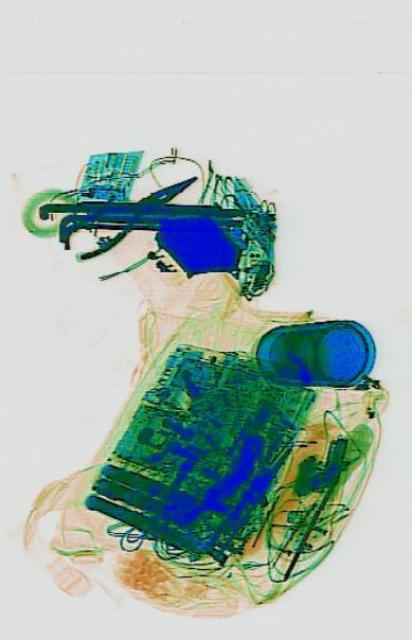Pliers: (58, 154, 201, 268)
